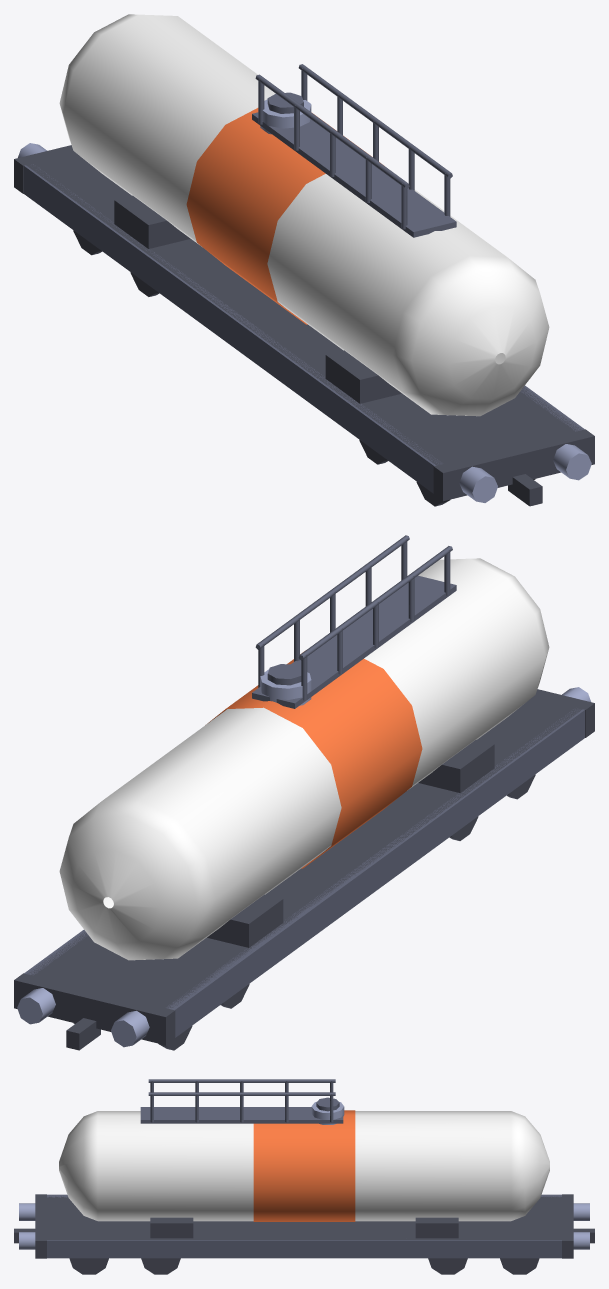
Rendered from wagon-citerne.glb.
3 renders of one model, top to bottom at view 1: azimuth 30°, elevation 25°; view 2: azimuth 150°, elevation 25°; view 3: azimuth 270°, elevation 25°, orthographic. The views are drawn at different scales.
Visible parts, largest first — view 1: citerne, longrine, brancard-g, bandeau-citerne, passerelle, traverse-tete-ar, berceau-ar, berceau-av, lisse-gc-d, lisse-gc-g, tampon-ard, tampon-arg (+3 smaller); view 2: citerne, longrine, brancard-g, bandeau-citerne, passerelle, traverse-tete-av, berceau-av, berceau-ar, lisse-gc-d, lisse-gc-g, tampon-avd, tampon-avg (+3 smaller); view 3: citerne, bandeau-citerne, longrine, brancard-d, passerelle, berceau-av, berceau-ar, traverse-tete-av, traverse-tete-ar, lisse-gc-g, lisse-gc-d, essieu-av-1-bandage-d (+8 smaller).
Boxes of the visible parts, x1,y1,x2,y2 form: citerne: (59,14,549,416); longrine: (26,153,581,465); brancard-g: (24,164,442,493); bandeau-citerne: (186,108,381,324); passerelle: (252,112,456,237); traverse-tete-ar: (433,429,594,501); berceau-ar: (325,350,401,403); berceau-av: (114,195,190,248); lisse-gc-d: (298,64,452,178); lisse-gc-g: (255,74,409,188); tampon-ard: (553,444,591,480); tampon-arg: (459,466,497,502); citerne: (59,558,549,960); longrine: (27,697,582,1008); brancard-g: (166,708,584,1037); bandeau-citerne: (207,651,422,868); passerelle: (252,575,456,708); traverse-tete-av: (14,973,175,1045); berceau-av: (207,894,283,947); berceau-ar: (418,739,494,792); lisse-gc-d: (255,535,409,649); lisse-gc-g: (298,546,452,660); tampon-avd: (17,988,55,1024); tampon-avg: (111,1010,149,1047); citerne: (59,1111,549,1221); bandeau-citerne: (253,1110,355,1221); longrine: (47,1196,561,1239); brancard-d: (47,1240,561,1258); passerelle: (140,1107,343,1123); berceau-av: (415,1217,458,1238); berceau-ar: (150,1217,193,1238); traverse-tete-av: (562,1194,573,1258); traverse-tete-ar: (35,1194,46,1258); lisse-gc-g: (148,1079,335,1082); lisse-gc-d: (148,1092,335,1095); essieu-av-1-bandage-d: (500,1258,539,1274).
Size of the model in its own units: 0.144 by 0.2468 by 0.745.
